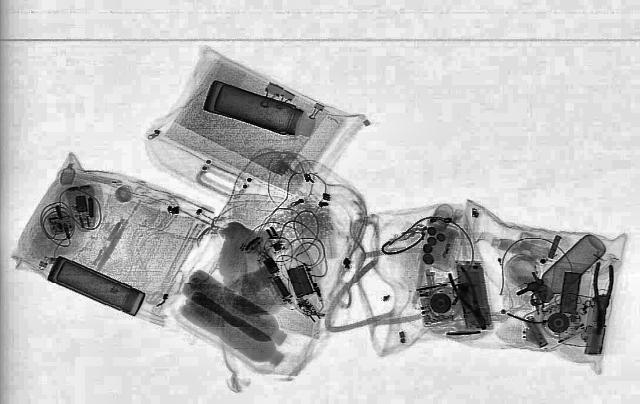Pliers: (440, 266, 498, 330), (586, 261, 614, 333)
